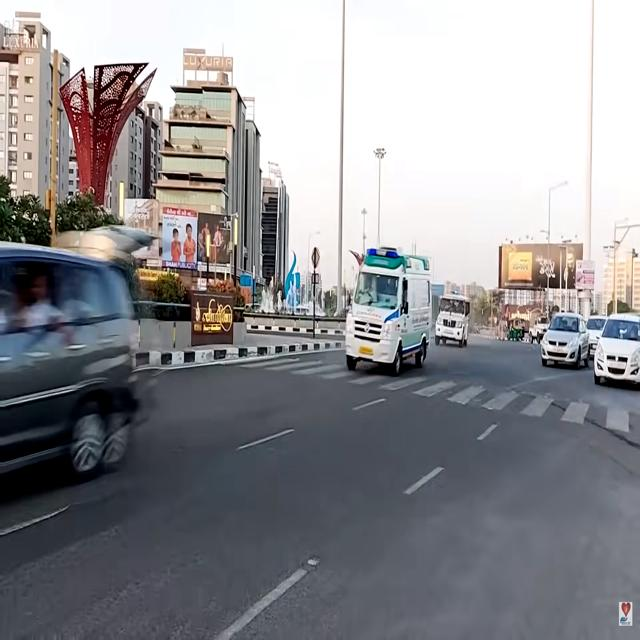emergency-vehicles: (336, 234, 438, 392)
